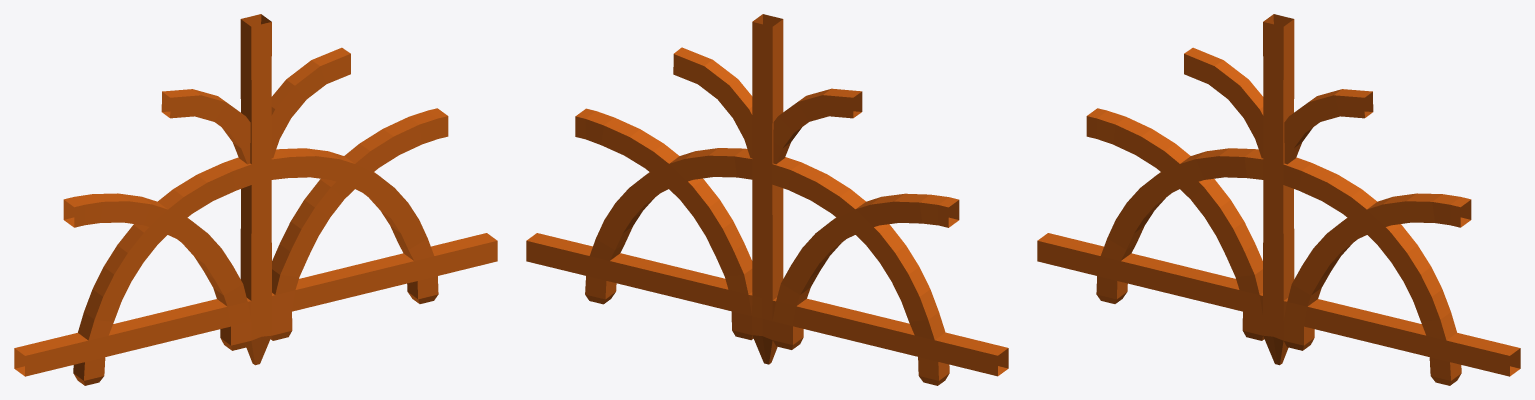
Rendered from dfk_beamwork_2.fbx.
3 views of the same model, side by side, from view 1: azimuth 30°, elevation 25°; view 2: azimuth 150°, elevation 25°; view 3: azimuth 330°, elevation 25° (orthographic).
Parts seen in each view (by area): view 1: Beamwork_2; view 2: Beamwork_2; view 3: Beamwork_2.
Part boxes in pixels (bbox=[...]): Beamwork_2: bbox=[14, 14, 497, 385]; Beamwork_2: bbox=[526, 14, 1008, 385]; Beamwork_2: bbox=[1037, 14, 1520, 385].
Bounding box in the file's own units: 3.6 × 2.5 × 0.1528.
